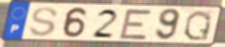2: (89, 8, 121, 39)
6: (61, 6, 89, 40)
9: (153, 8, 182, 43)
E: (117, 7, 155, 41)
Q: (182, 9, 214, 42)
S: (27, 6, 60, 38)
